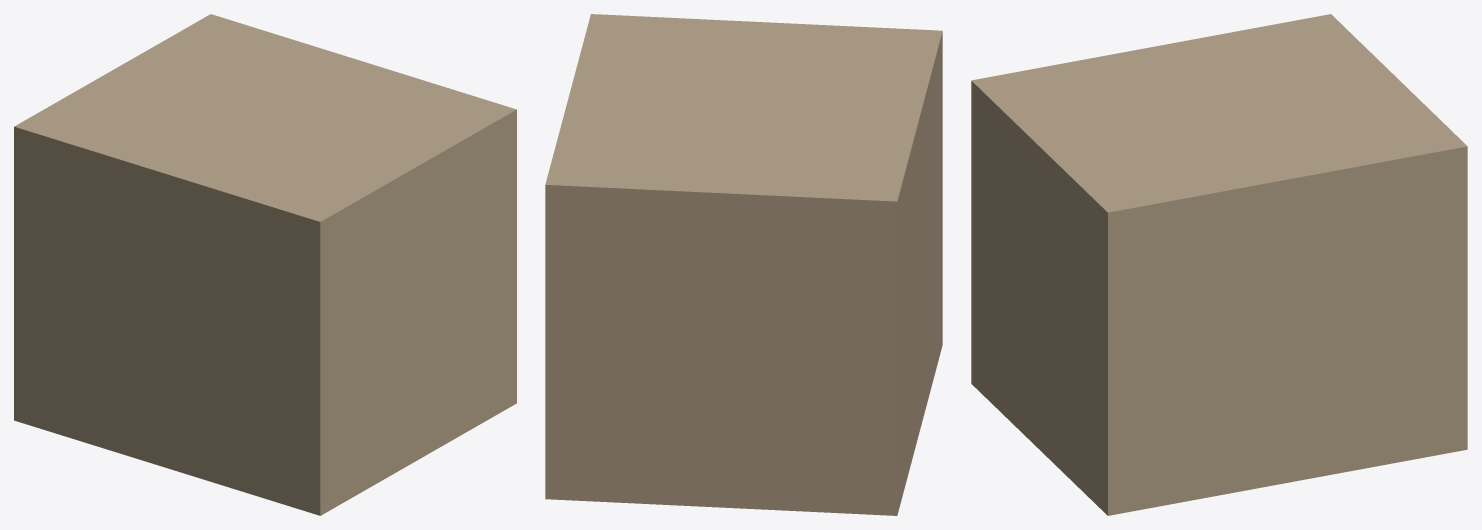
The model's file is bld_163484408.dae.
3 renders of one model, left to right at view 1: azimuth 30°, elevation 25°; view 2: azimuth 150°, elevation 25°; view 3: azimuth 270°, elevation 25°, orthographic. The views are drawn at different scales.
Visible parts, largest first — view 1: bld_163484408; view 2: bld_163484408; view 3: bld_163484408.
Boxes of the visible parts, box(x1,y1,x2,y2) form: bld_163484408: box(14, 14, 516, 515); bld_163484408: box(545, 14, 942, 515); bld_163484408: box(971, 14, 1467, 515).
Bounding box in the file's own units: 11.24 × 11.87 × 8.
